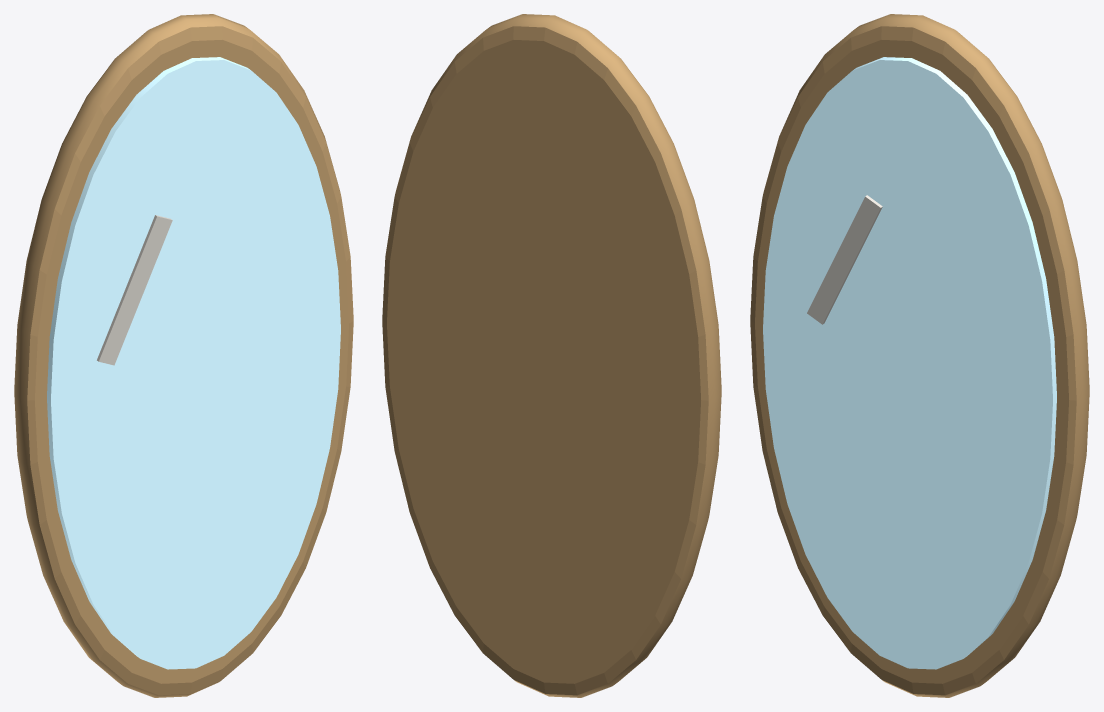
File: espelho.glb
The picture shows the model from 3 angles, left to right: view 1: azimuth 30°, elevation 25°; view 2: azimuth 150°, elevation 25°; view 3: azimuth 330°, elevation 25°; orthographic projection.
Parts seen in each view (by area): view 1: espelho; view 2: espelho; view 3: espelho.
Part boxes in pixels (<box>): espelho: <box>14,14,353,697</box>; espelho: <box>382,14,721,697</box>; espelho: <box>750,14,1089,697</box>.
Bounding box in the file's own units: 0.96 × 1.87 × 0.11.
